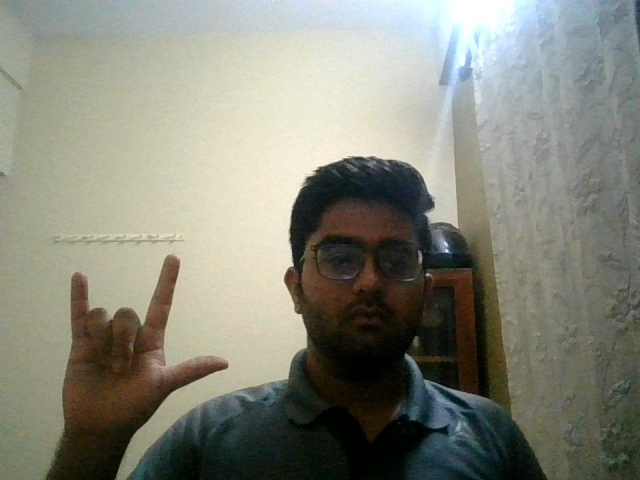I Love You: (51, 243, 239, 448)
